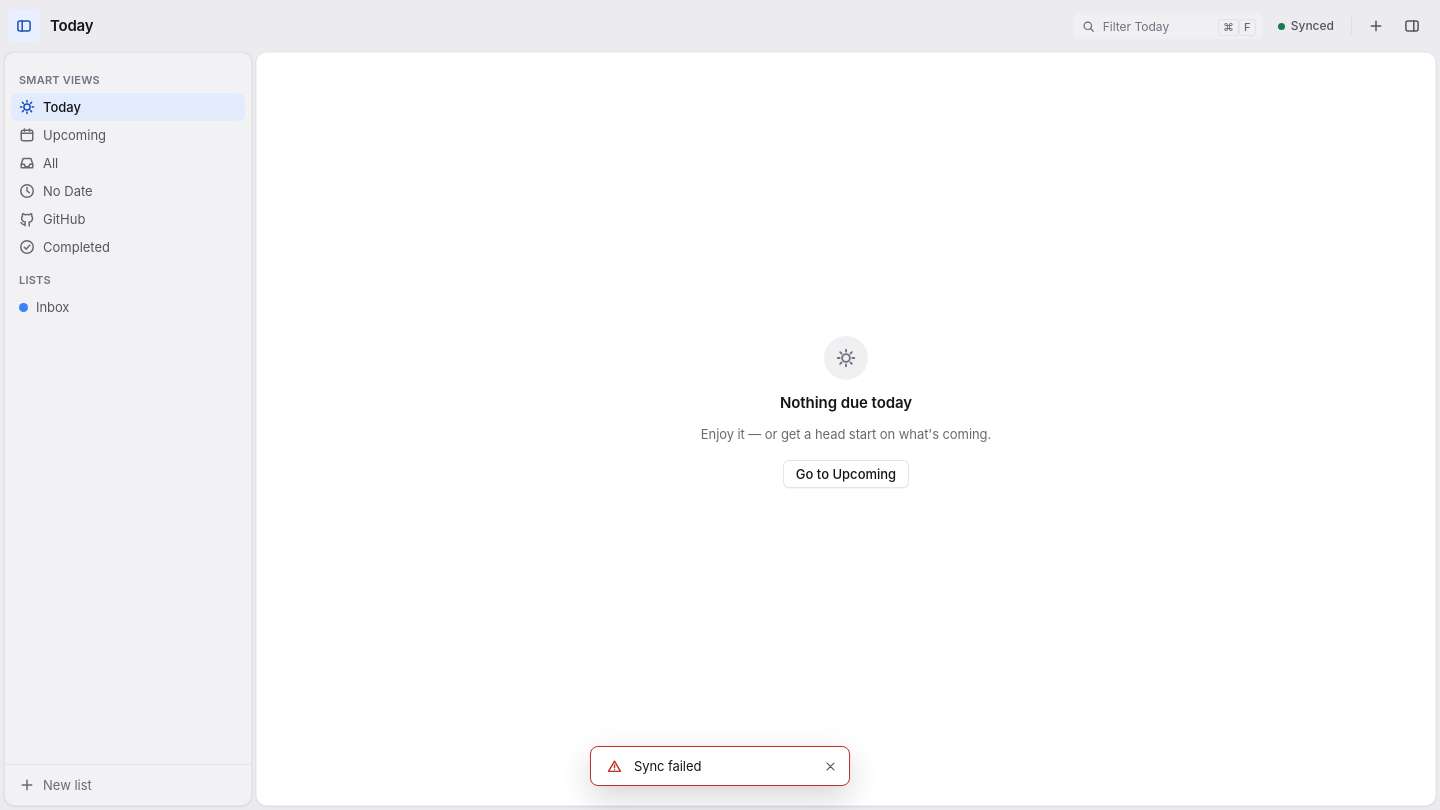
Test case: Toasts › dismisses a toast from its close button
Expected: the text "Sync failed" is shown, x1=634 y1=758 x2=701 y2=774
Click the button named "Dismiss notification".
click(830, 766)  # box x1=819 y1=755 x2=841 y2=777
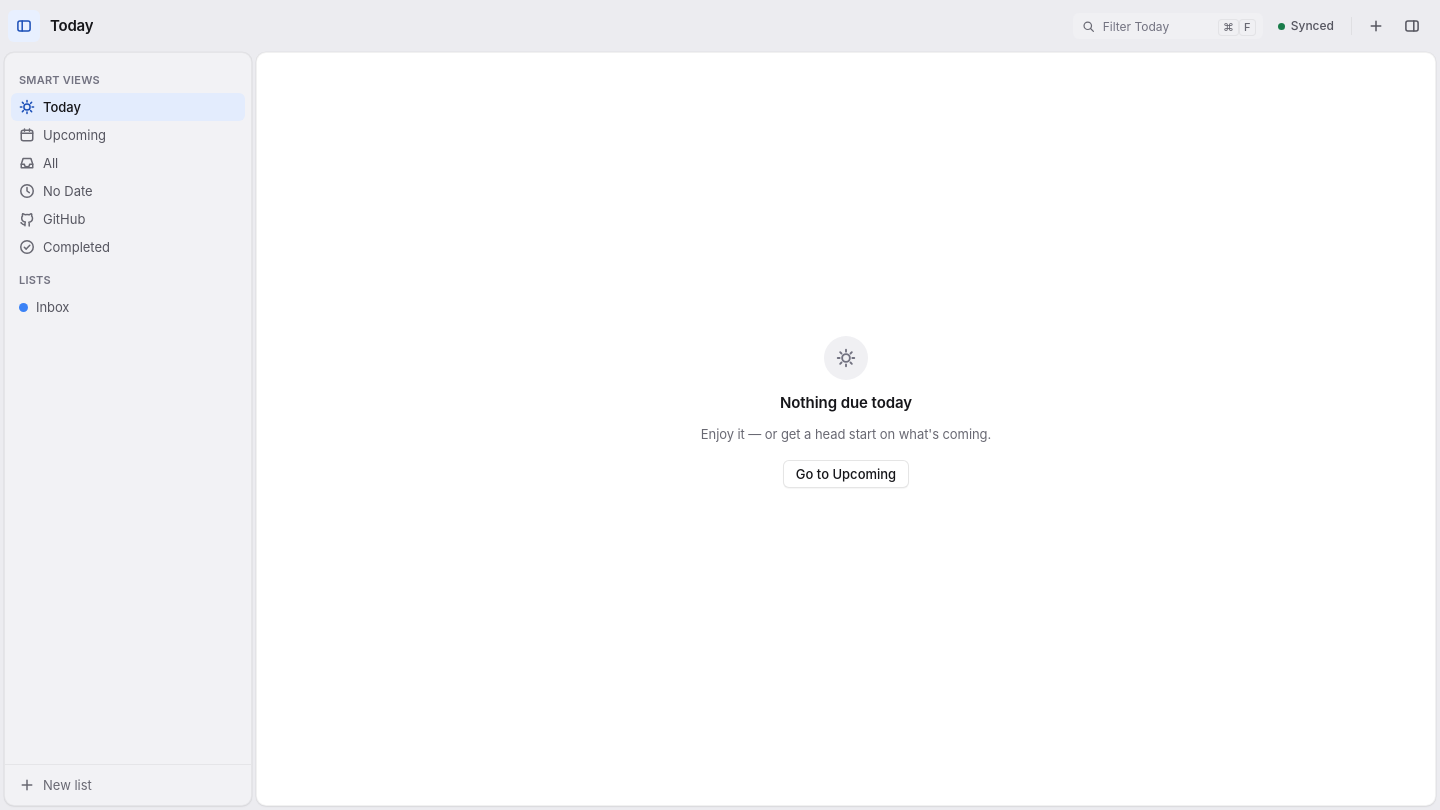
Expected: the text "Sync failed" is gone
